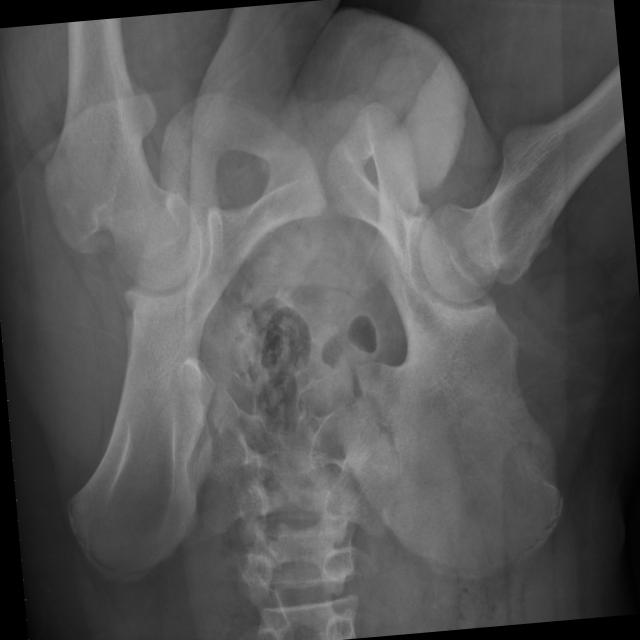normal-left: (43, 16, 199, 291)
normal-right: (419, 62, 625, 301)
